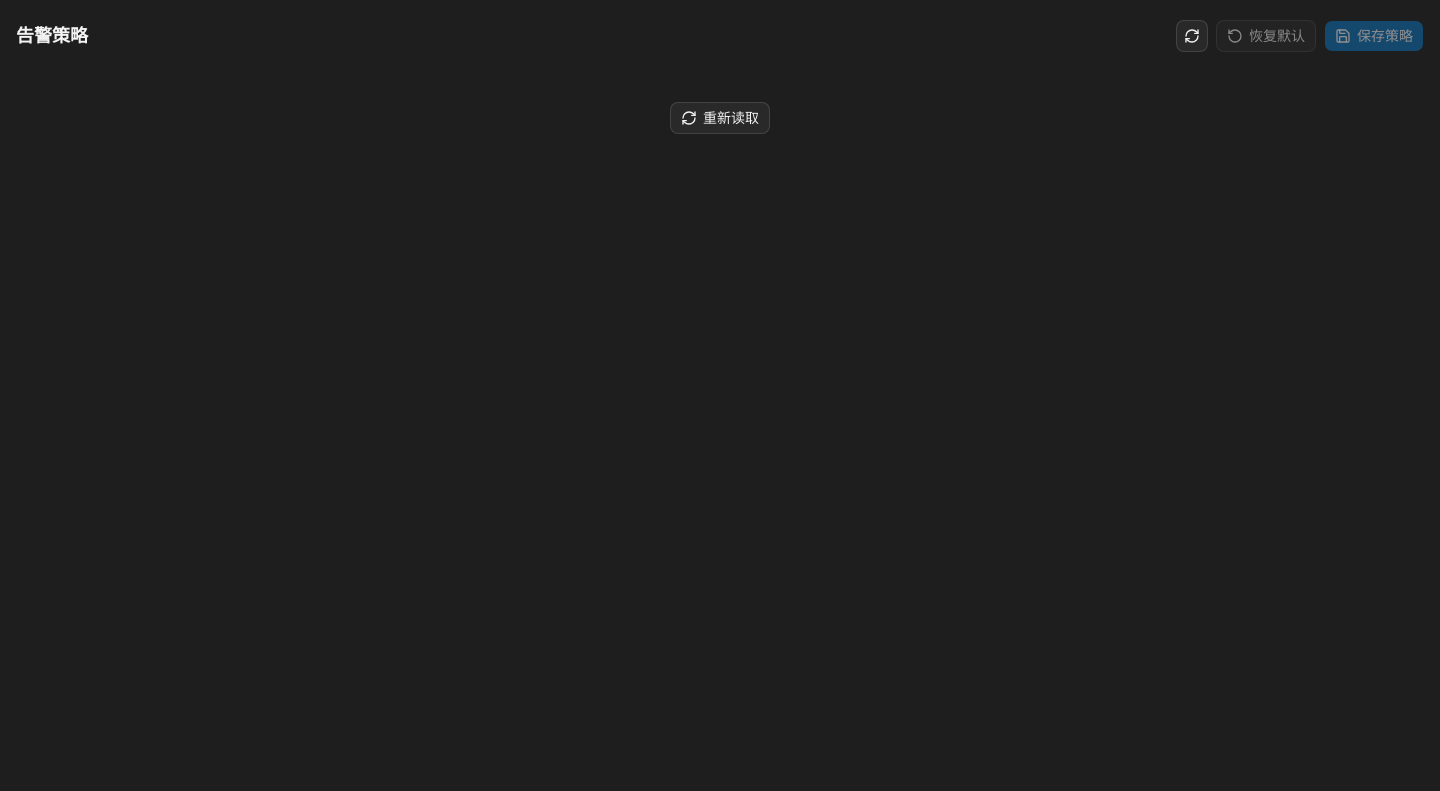
Test: 首次读取失败时提供重试且不呈现默认表单，成功重试后才允许保存
Check: the element "告警检测" is not shown
Check: the button "保存策略" is disabled, box x1=1324 y1=20 x2=1424 y2=52
Click the button named "刷新告警策略" at x=1192, y=36, box x1=1176 y1=20 x2=1208 y2=52
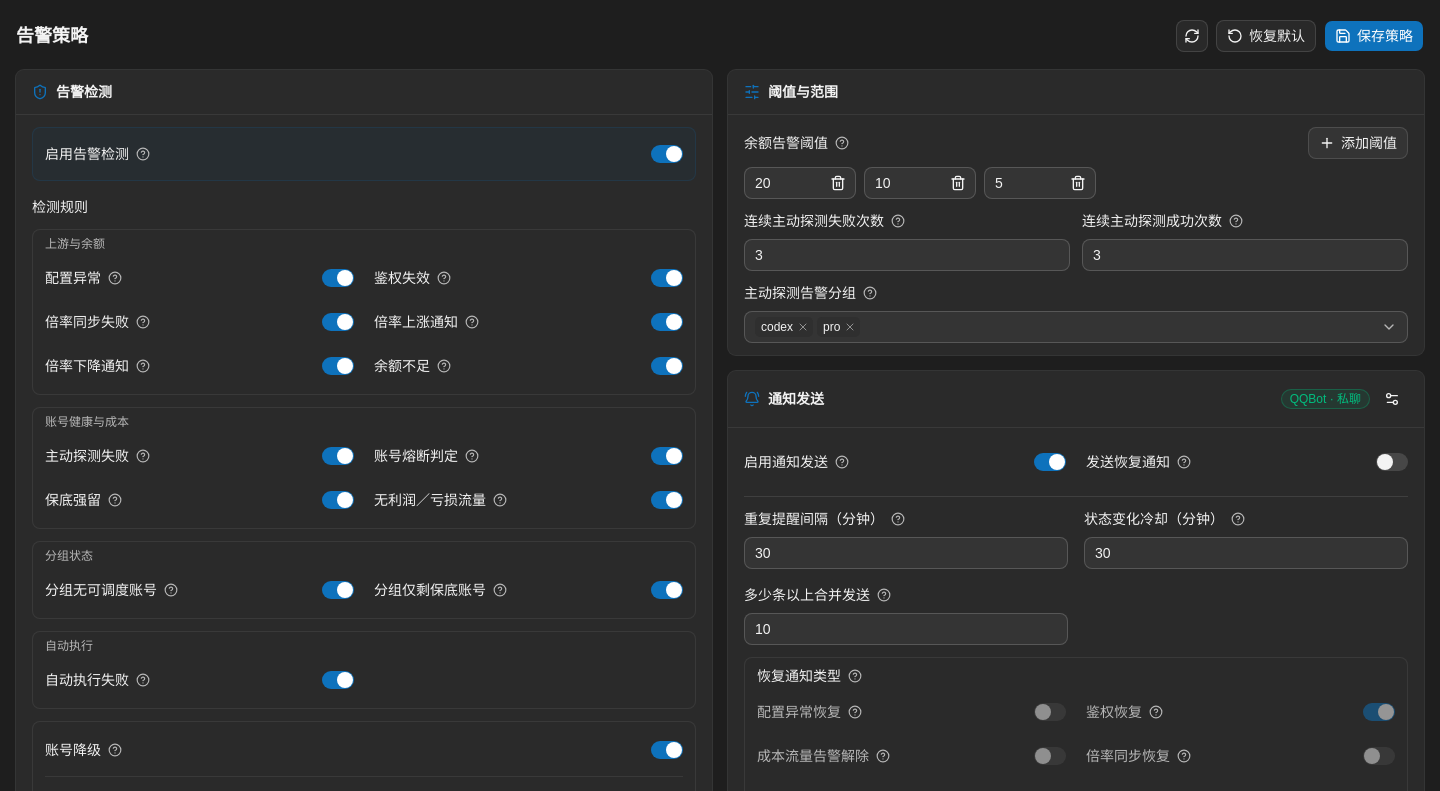
Check: the button "保存策略" is enabled, box x1=1324 y1=20 x2=1424 y2=52
